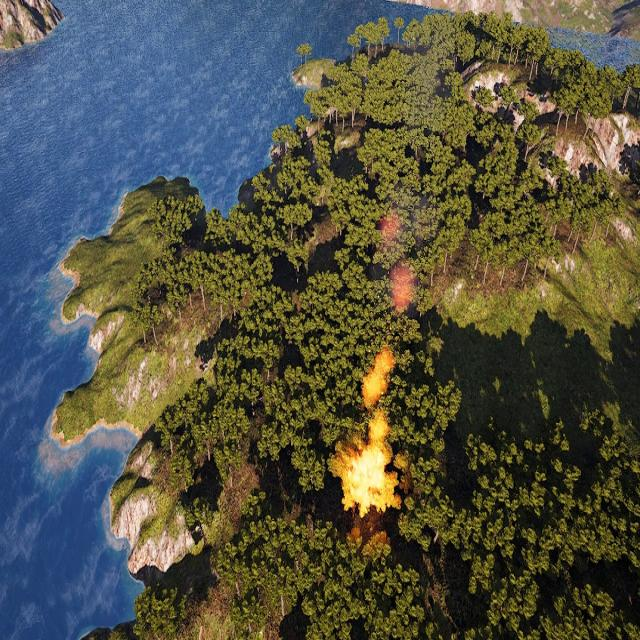fire: (342, 440, 399, 520), (362, 349, 392, 409)
